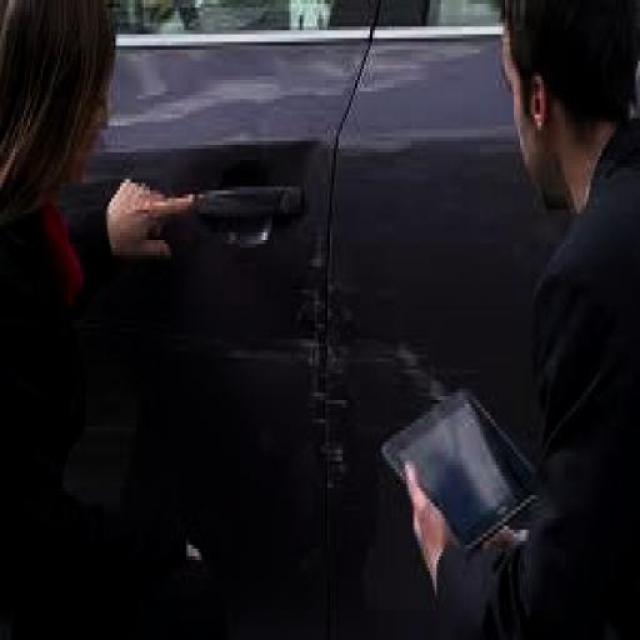Car-Damage: (285, 227, 459, 511)
